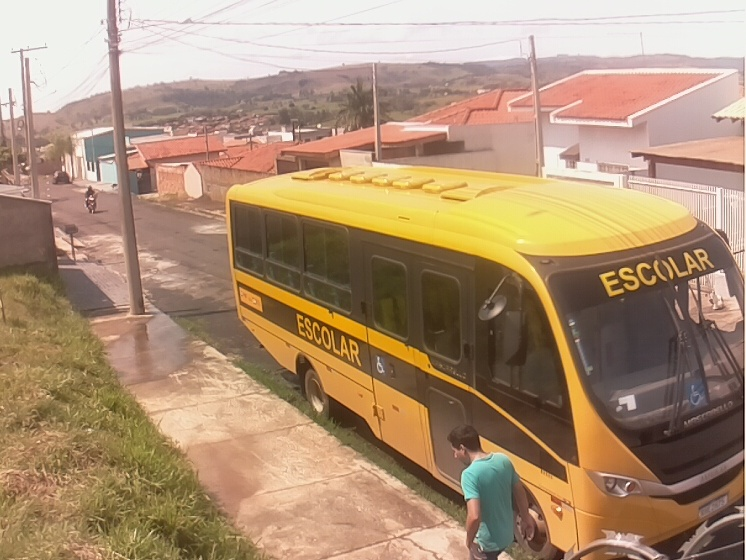person: (445, 425, 532, 560)
